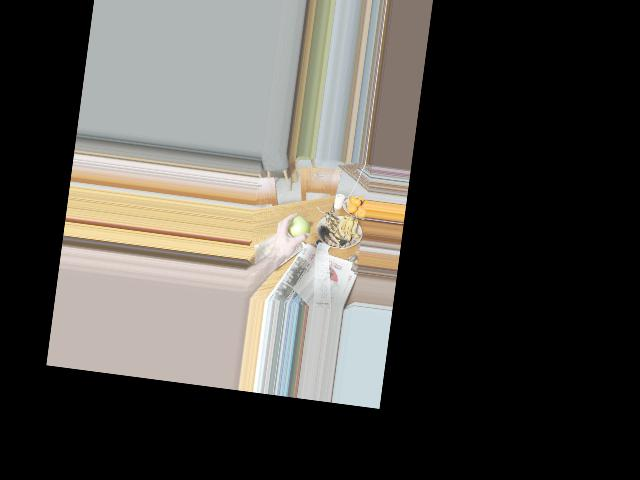apple: (284, 212, 311, 241)
